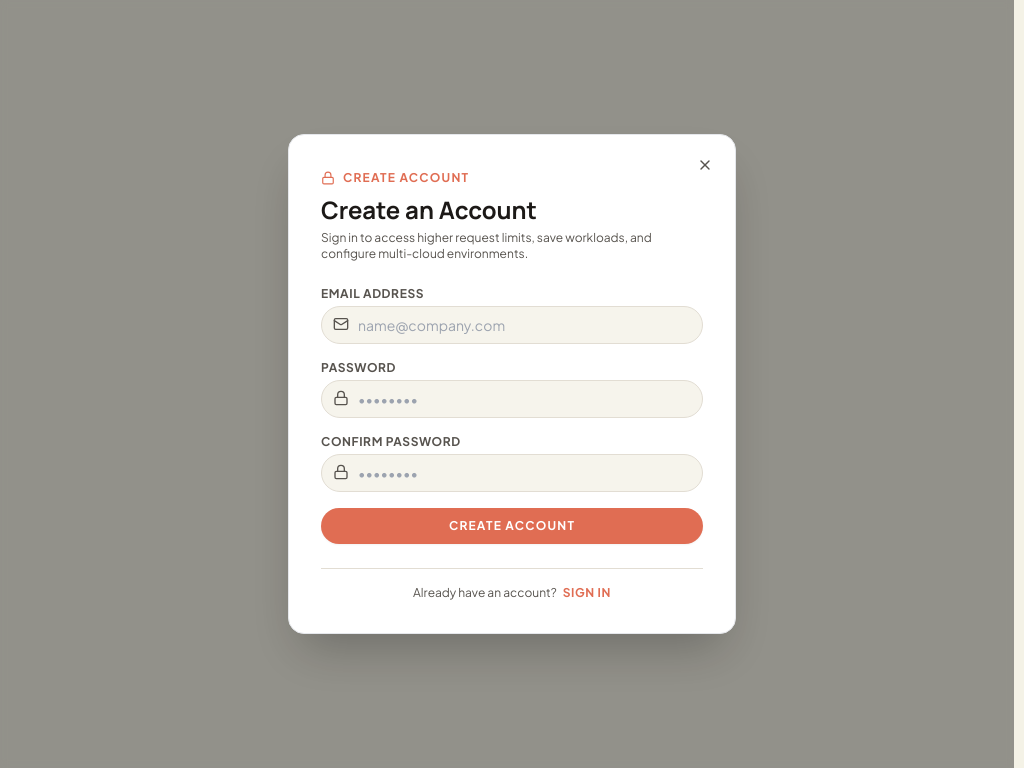
Test case: AuthModal Component › validates password mismatch on signup
The image size is (1024, 768).
Step 1. Type "newuser@company.com" into the field with placeholder "name@company.com" → coordinates (512, 325), box top-left (321, 306), bottom-right (703, 344)
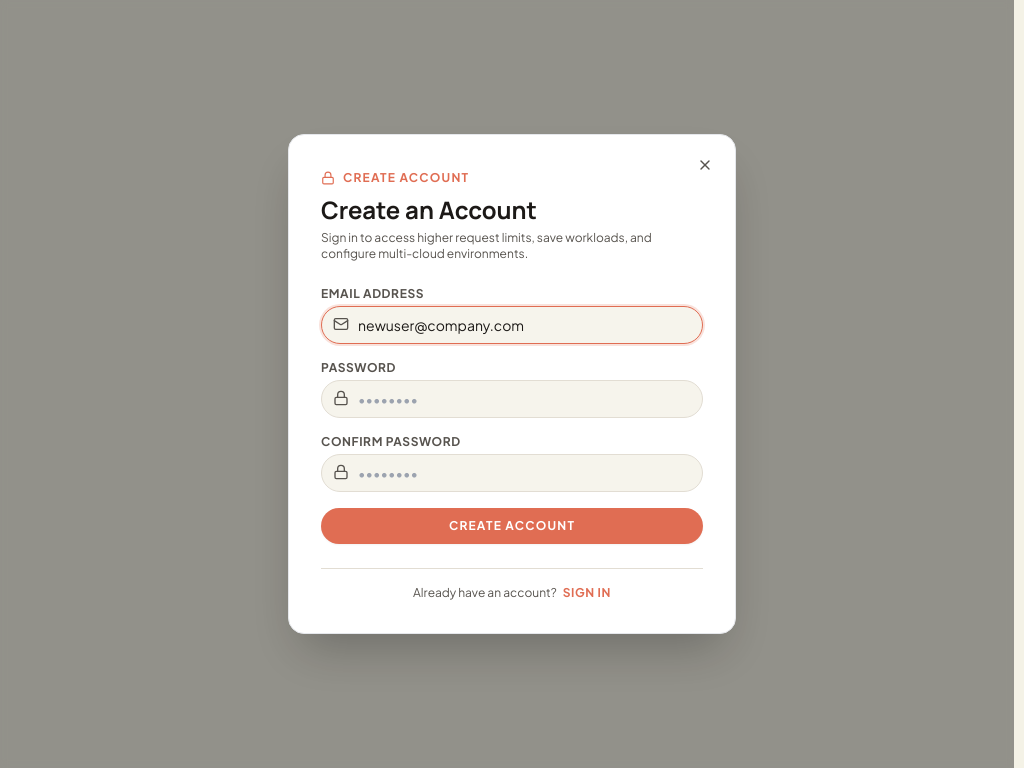
Step 2. Type "password123" into the password field with placeholder "••••••••" → coordinates (512, 399), box top-left (321, 380), bottom-right (703, 418)
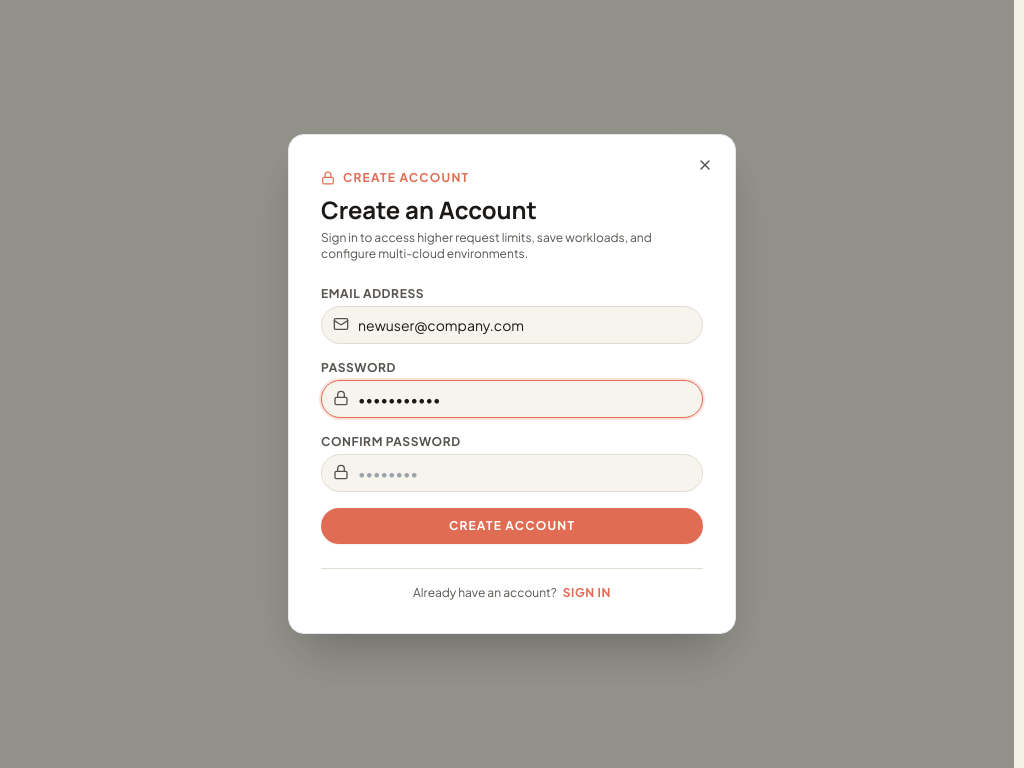
Step 3. Type "differentpassword" into the password field with placeholder "••••••••" → coordinates (512, 473), box top-left (321, 454), bottom-right (703, 492)
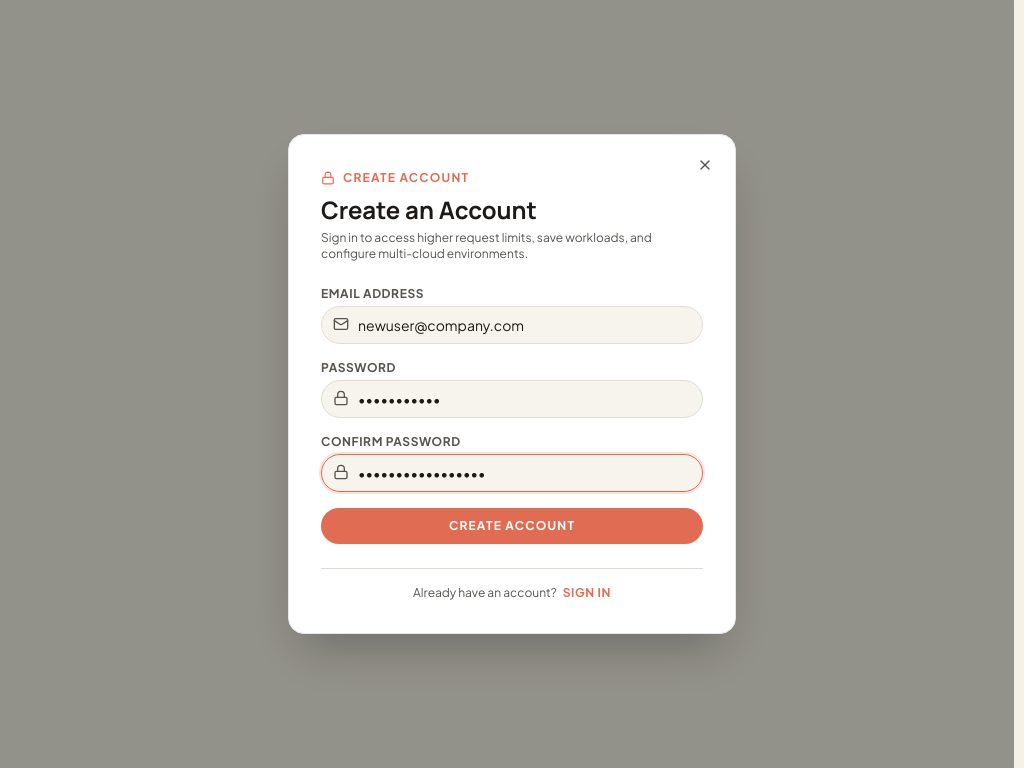
Step 4. Click the button "Create Account" → coordinates (512, 526), box top-left (321, 508), bottom-right (703, 544)
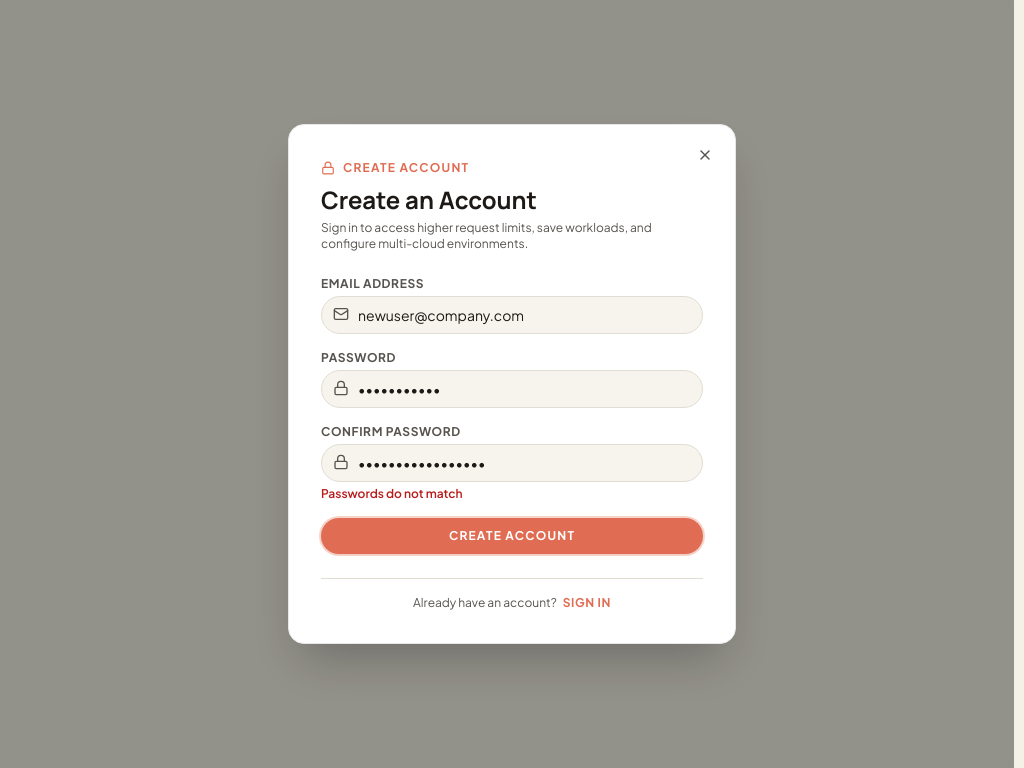
Result: the text "Passwords do not match" is shown at top-left (321, 486), bottom-right (463, 501)
